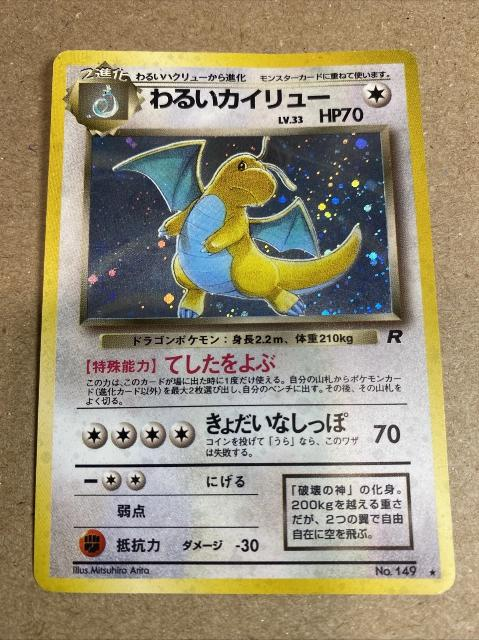Card: (29, 44, 461, 601)
Name: (147, 83, 338, 111)
